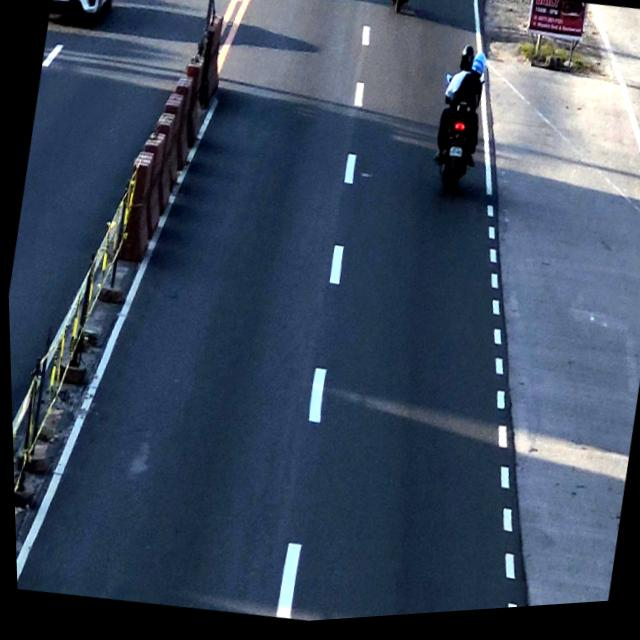License-Plate: (446, 150, 462, 165)
Motorcycle: (428, 47, 490, 198)
